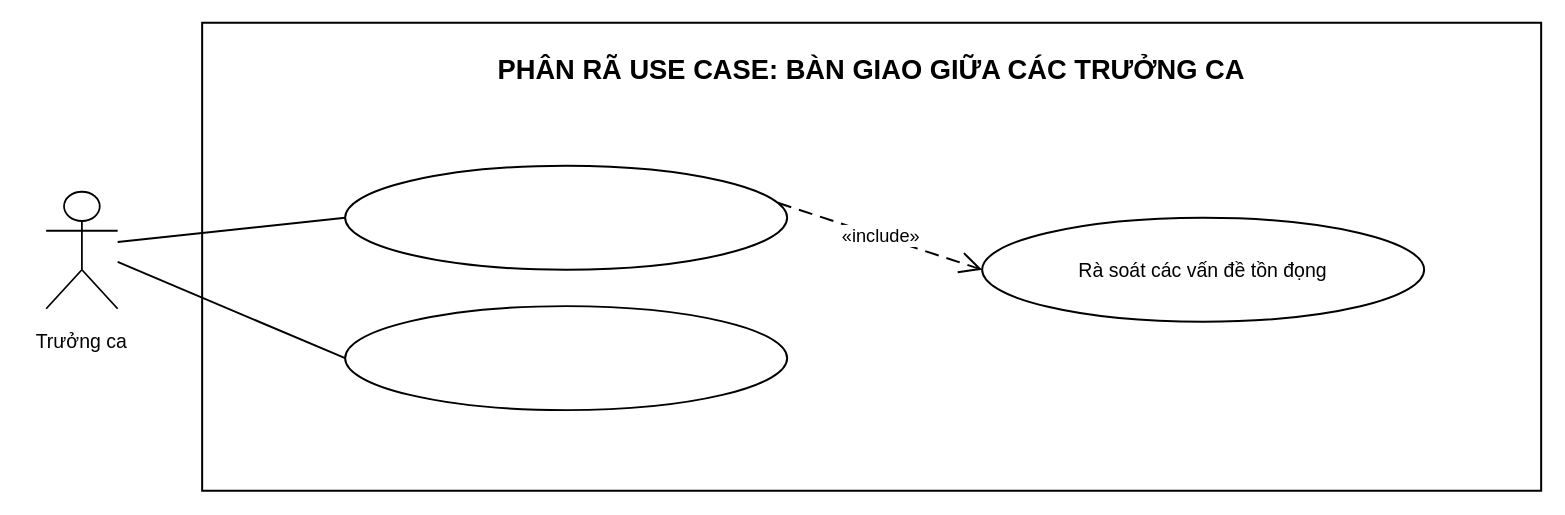
This 1565x515 diagram has some shape labels left out. The shapes that lost their labels are listed below. From the top down, each one's centre as x and y in pixels, then its label:
At [566,217]: "Lập biên bản bàn giao ca".
At [566,358]: "Xác nhận tiếp nhận ca".
